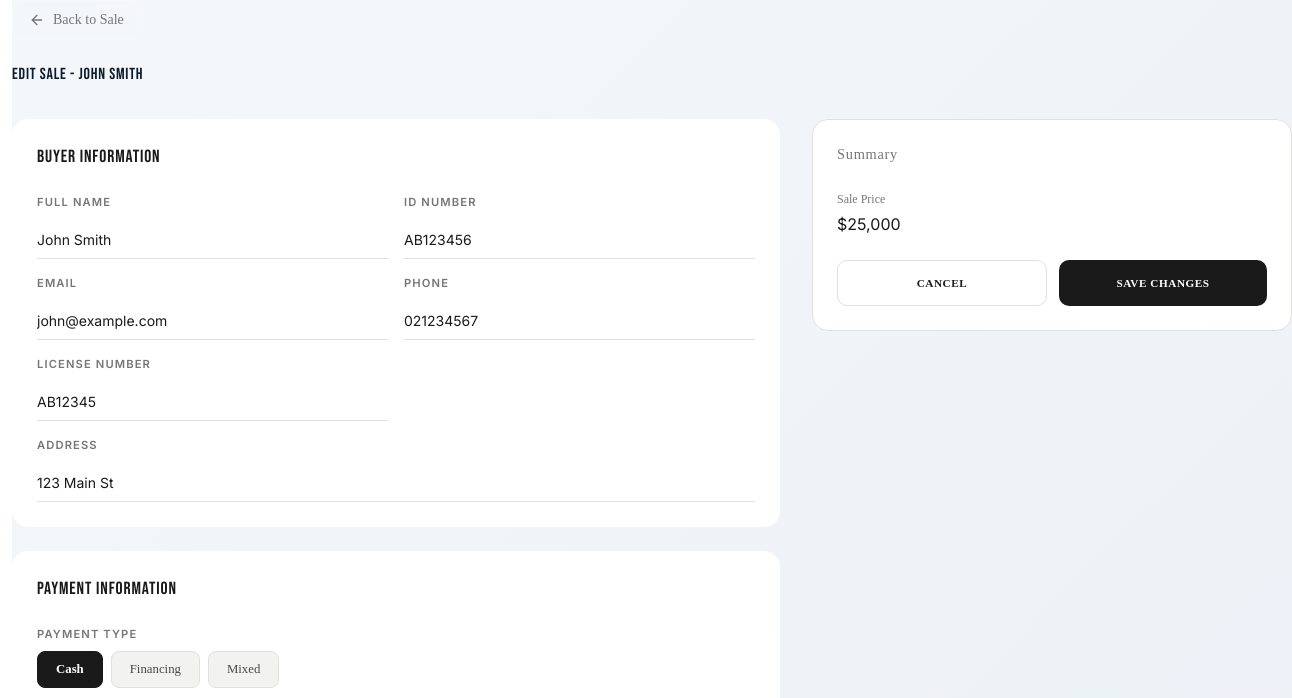
Test: AdminEditSale › switching payment type from Cash to Financing reveals Loan Term and Financing Fees fields
The image size is (1292, 698).
Expected: the text "Payment Type" is shown, [37,627,137,641]
Expected: the text "Loan Term (months)" is not shown
Click the button "Financing". click: (155, 669)
box: [111,651,200,688]
(page scrolled)
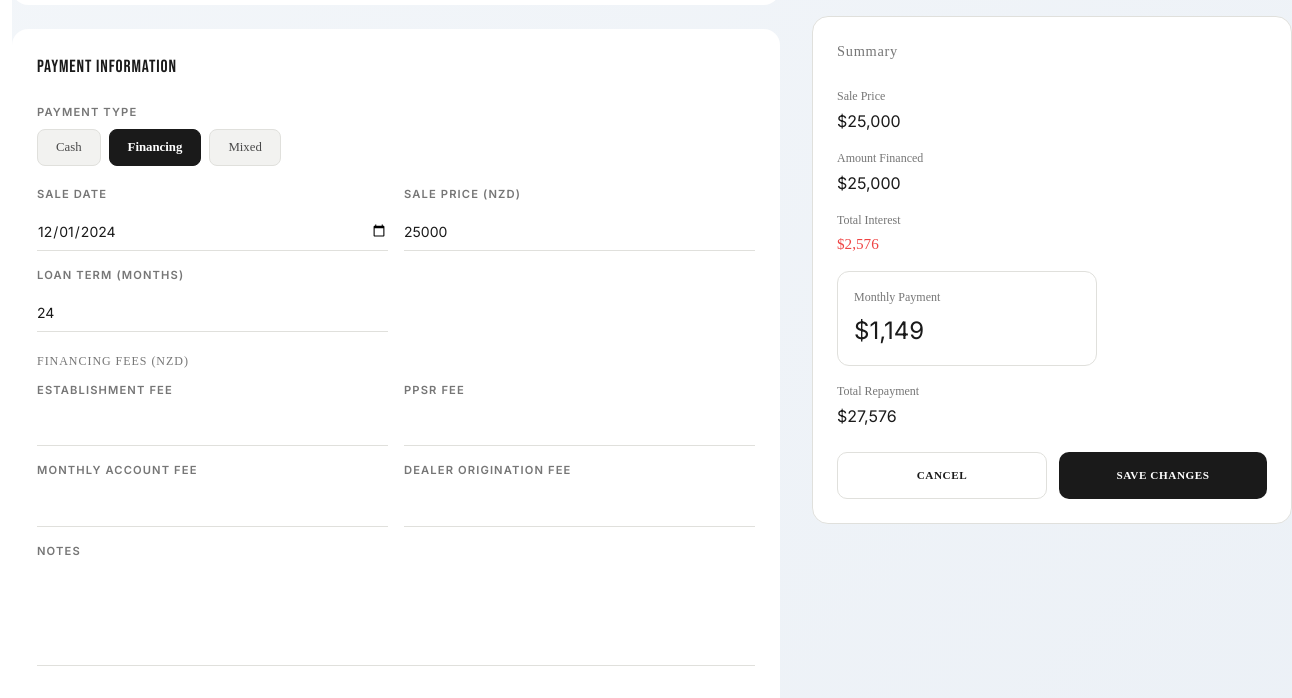
Result: the text "Loan Term (months)" is shown at [37,268,184,282]
Result: the heading "Financing Fees (NZD)" is shown at [37,354,189,368]
